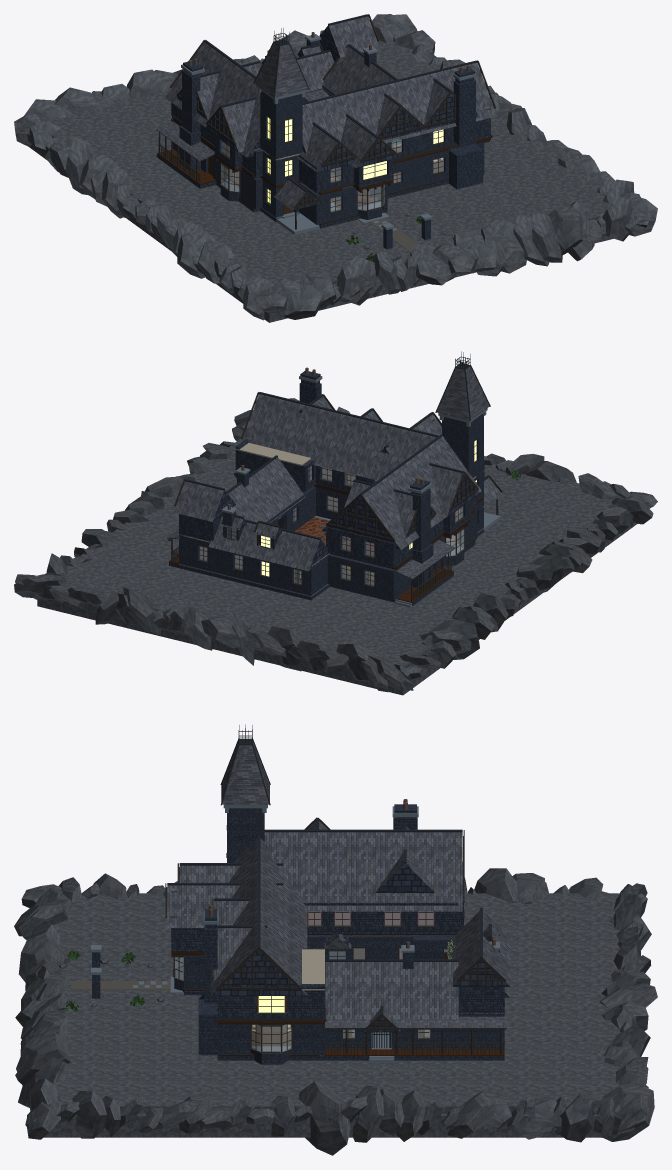
Rendered from casa-da-costa-pisos-nova.glb.
3 views of the same model, one above another, from view 1: azimuth 30°, elevation 25°; view 2: azimuth 150°, elevation 25°; view 3: azimuth 270°, elevation 25° (orthographic). The views are drawn at different scales.
Visible parts, largest first — view 1: rochedo (×30), terreno-oeste, terreno-leste, telhado-ala-sul, terreno-sul, telhado-ala-oeste, corucheu, telhado-ala-leste, telhado-sotao-cozinha, empena-oeste-bay, fuste-chamine-leste-meio, telhado-da-entrada (+20 smaller); view 2: terreno-oeste, rochedo (×23), telhado-ala-sul, terreno-leste, telhado-ala-oeste, terreno-norte, rocha-base, telhado-ala-norte, telhado-ala-leste, parede-norte-seg (×3), corucheu, telhado-sotao-cozinha (+13 smaller); view 3: rochedo (×26), terreno-leste, terreno-oeste, telhado-ala-oeste, telhado-ala-sul, telhado-ala-leste, terreno-sul, terreno-norte, rocha-base, corucheu, telhado-da-entrada, parede-leste-bloco-se-seg (×2) (+23 smaller).
Boxes of the visible parts, <box> form: rochedo (×30): <box>24,14,657,320</box>; terreno-oeste: <box>34,90,438,289</box>; terreno-leste: <box>376,40,612,228</box>; telhado-ala-sul: <box>302,62,496,153</box>; terreno-sul: <box>387,183,516,245</box>; telhado-ala-oeste: <box>165,42,260,157</box>; corucheu: <box>254,43,307,97</box>; telhado-ala-leste: <box>322,46,394,95</box>; telhado-sotao-cozinha: <box>319,16,379,57</box>; empena-oeste-bay: <box>205,99,255,152</box>; fuste-chamine-leste-meio: <box>453,80,475,145</box>; telhado-da-entrada: <box>341,117,399,168</box>; terreno-oeste: <box>239,464,623,668</box>; rochedo (×23): <box>14,460,653,690</box>; telhado-ala-sul: <box>241,394,436,480</box>; terreno-leste: <box>64,439,241,600</box>; telhado-ala-oeste: <box>321,436,481,549</box>; terreno-norte: <box>150,571,274,619</box>; rocha-base: <box>37,522,637,695</box>; telhado-ala-norte: <box>208,516,329,571</box>; telhado-ala-leste: <box>228,457,305,523</box>; parede-norte-seg (×3): <box>179,535,294,591</box>; corucheu: <box>437,366,489,420</box>; telhado-sotao-cozinha: <box>174,481,235,521</box>; rochedo (×26): <box>15,868,657,1155</box>; terreno-leste: <box>46,1047,622,1113</box>; terreno-oeste: <box>51,893,620,997</box>; telhado-ala-oeste: <box>264,832,462,911</box>; telhado-ala-sul: <box>210,838,307,995</box>; telhado-ala-leste: <box>325,962,458,1019</box>; terreno-sul: <box>47,997,199,1047</box>; terreno-norte: <box>504,997,621,1047</box>; rocha-base: <box>44,1113,601,1137</box>; corucheu: <box>221,740,269,804</box>; telhado-da-entrada: <box>167,885,283,927</box>; parede-leste-bloco-se-seg (×2): <box>217,1024,324,1055</box>.
Bounding box in the file's own units: 47.11 × 24.19 × 53.2.
Materials: 103 (24 with a texture image).
